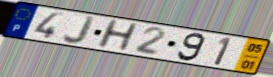1: (213, 36, 233, 68)
2: (133, 26, 168, 58)
4: (32, 10, 63, 40)
9: (177, 32, 208, 62)
H: (94, 18, 141, 52)
J: (61, 14, 98, 46)
